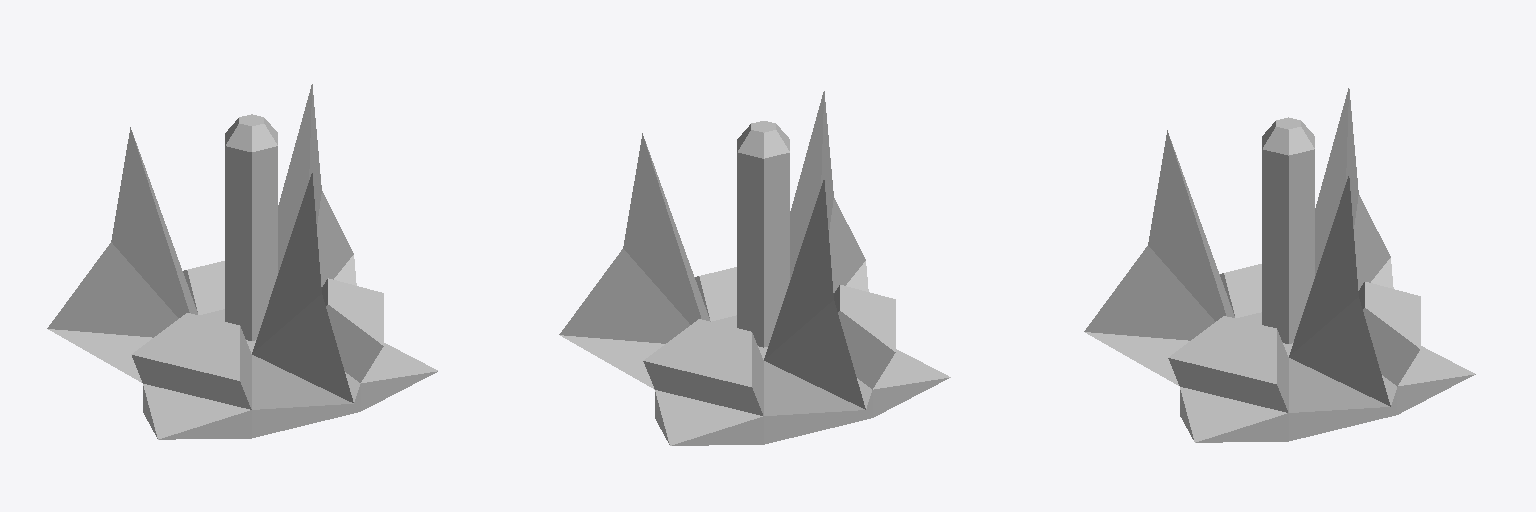
3 renders of one model, left to right at view 1: azimuth 30°, elevation 25°; view 2: azimuth 150°, elevation 25°; view 3: azimuth 270°, elevation 25°, orthographic.
Parts seen in each view (by area): view 1: Cylinder02_sep4; view 2: Cylinder02_sep4; view 3: Cylinder02_sep4.
Boxes of the visible parts, box(x1,y1,x2,y2) form: Cylinder02_sep4: box(47, 84, 437, 439); Cylinder02_sep4: box(559, 91, 950, 445); Cylinder02_sep4: box(1084, 88, 1475, 442).
Bounding box in the file's own units: 22.55 × 18.6 × 24.95.